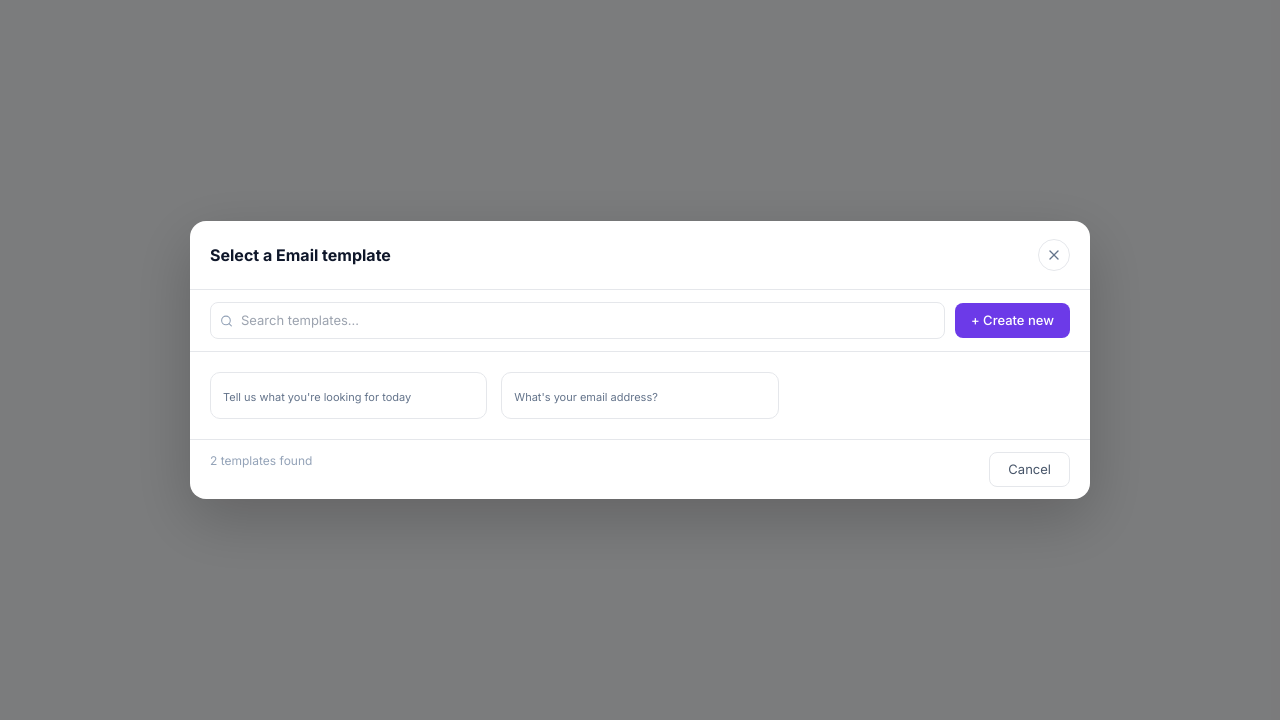
Test: UnifiedTemplateModal › renders the bespoke CollectInputForm (not the generic field form) for styleId=collect_input, seeded from presetInputType
Click the button "+ Create new". click: (1012, 321)
box: [955, 303, 1070, 338]
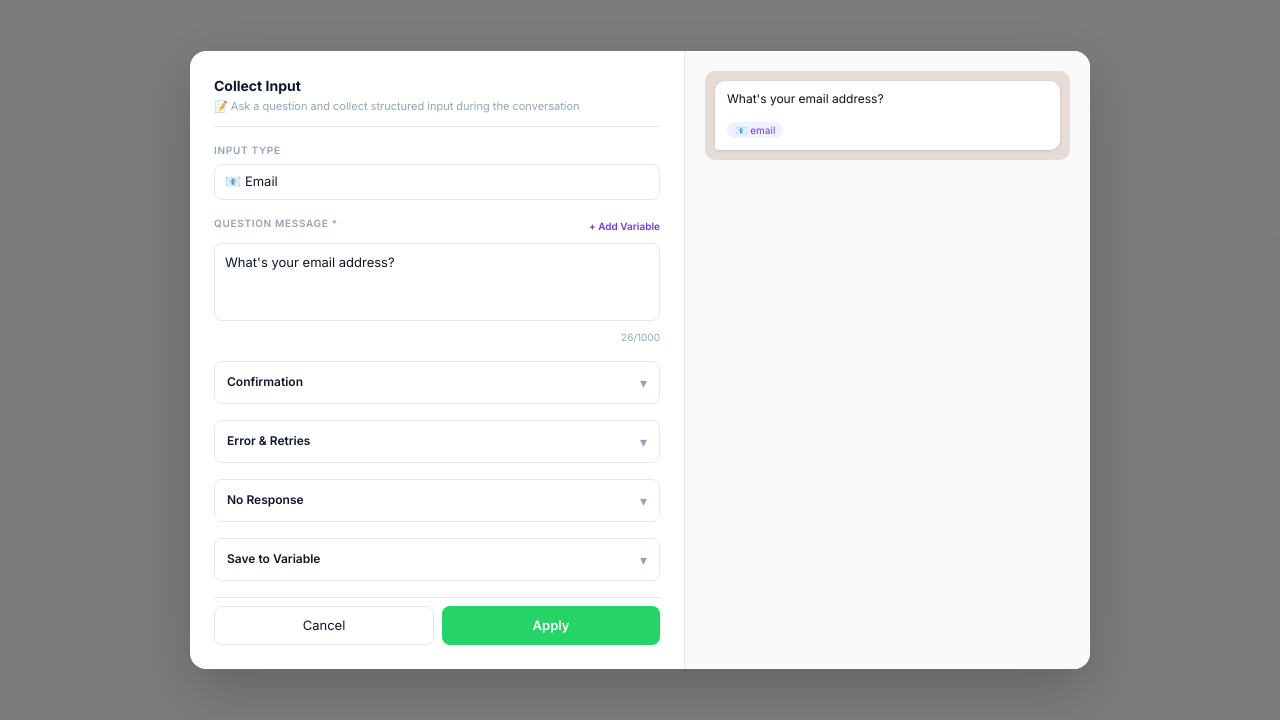
Result: the text "Collect Input" is shown at [214, 76, 301, 94]
Result: the text box with placeholder "What's your email address?" is shown at [214, 242, 660, 321]
